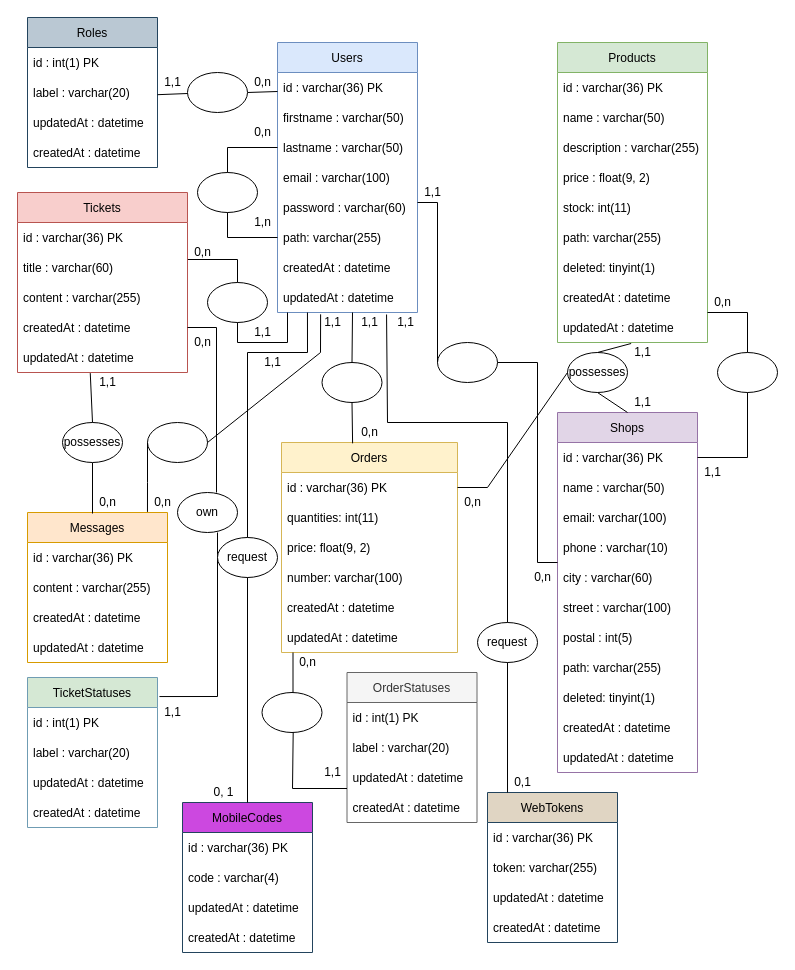
This 795x970 diagram has some shape labels left out. Each missing label, with the centre of its shape:
add: point (747, 372)
administer: point (351, 382)
belongs: point (217, 92)
create: point (467, 362)
have: point (237, 302)
hold: point (291, 712)
manage: point (227, 192)
send: point (177, 442)
